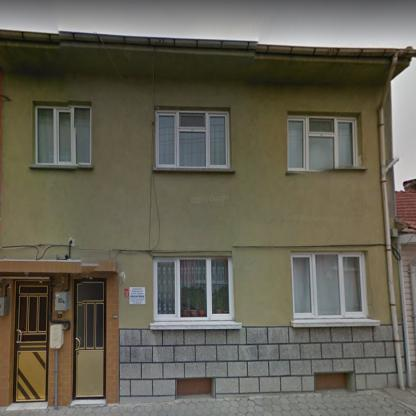door: (14, 282, 48, 400), (75, 280, 104, 398)
window: (292, 252, 367, 319), (154, 257, 233, 320), (155, 111, 228, 167), (288, 117, 356, 169), (34, 104, 90, 166)
